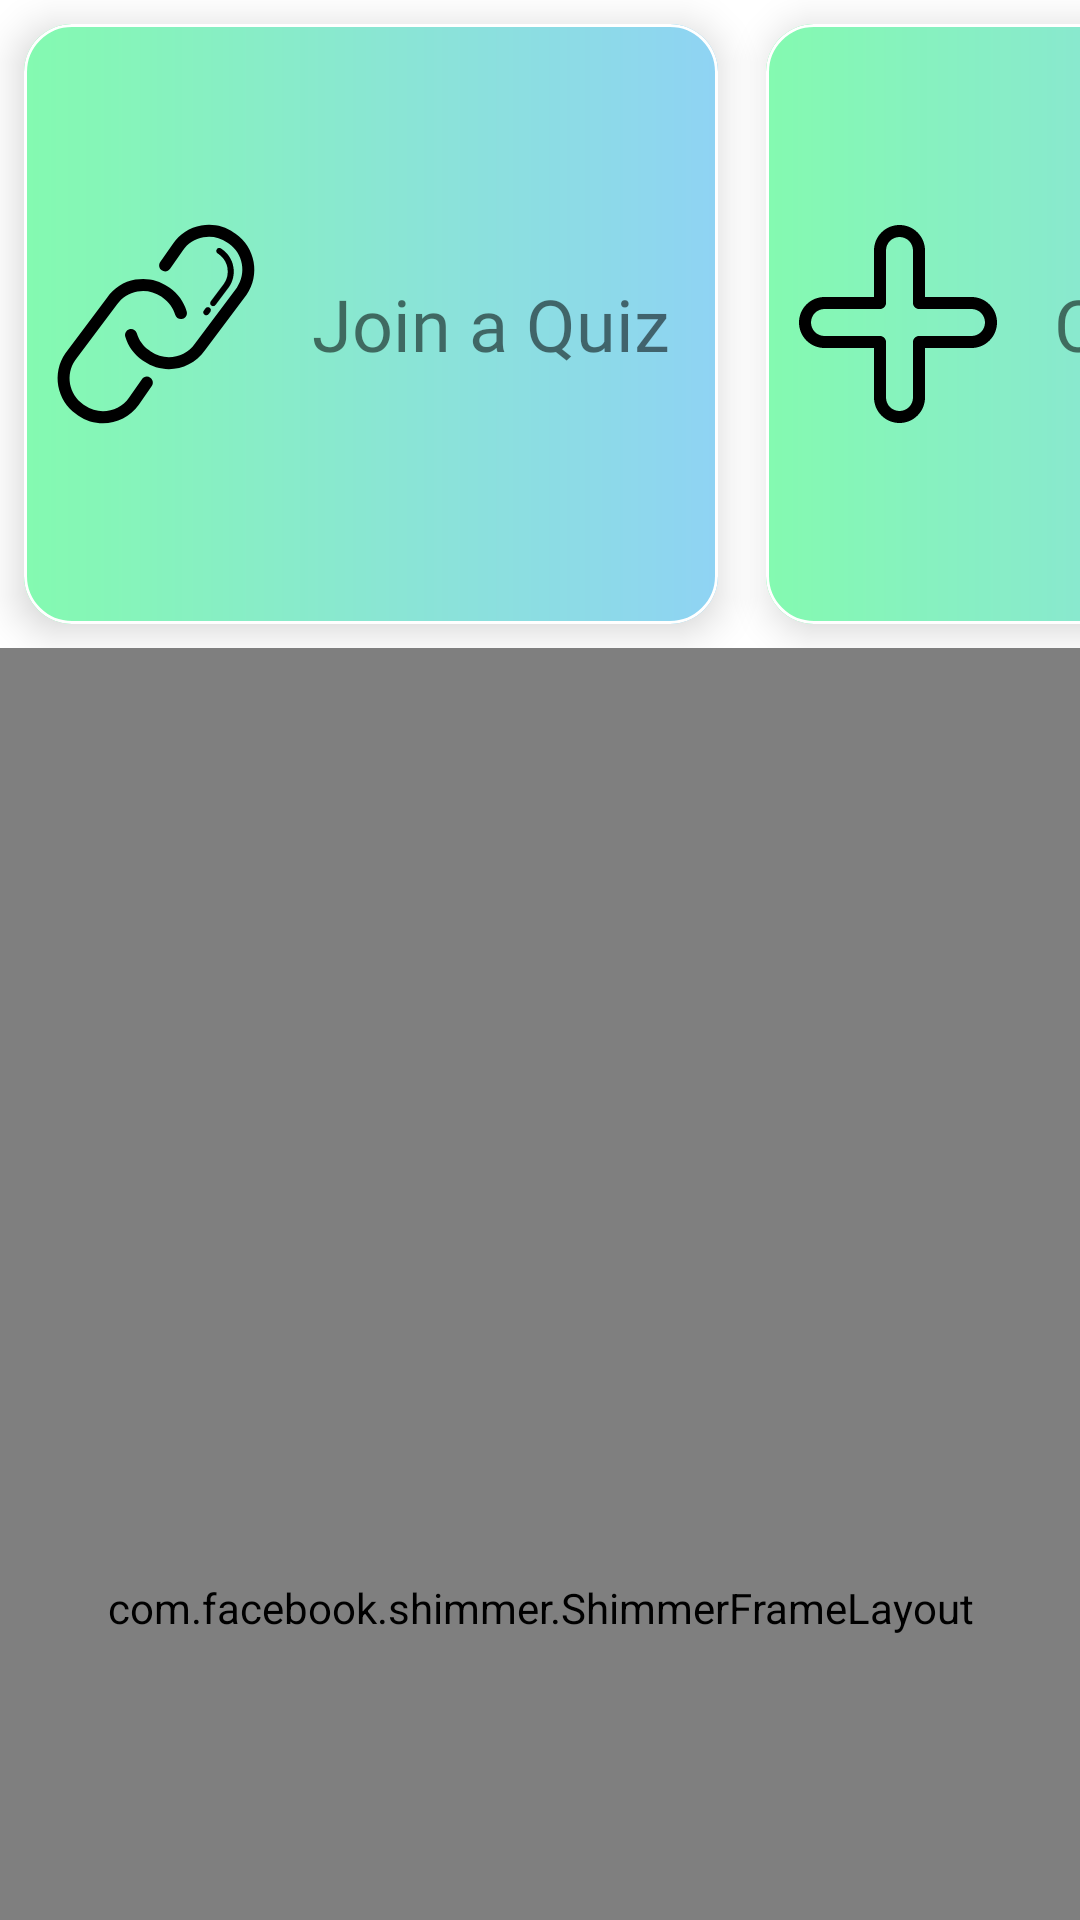

Icons on this 1080x1920 Android screen, each with the point to tap as (x=x, y=y):
link: (x=160, y=324)
plus: (x=898, y=324)
